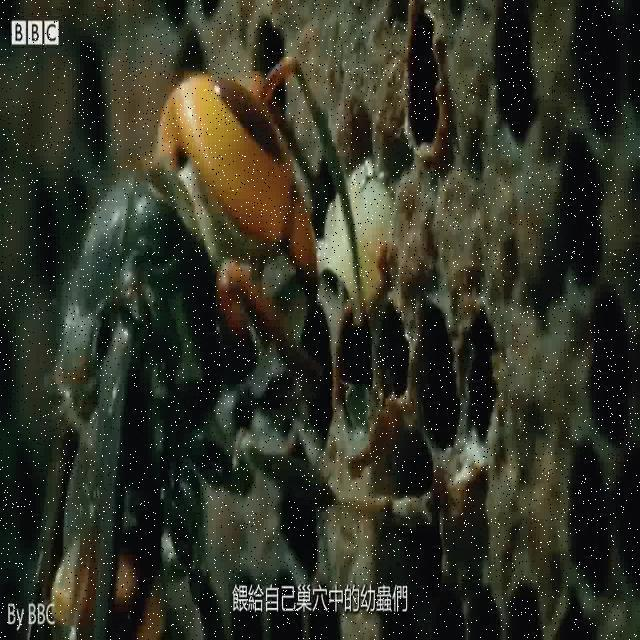Wasp: (11, 53, 448, 588)
